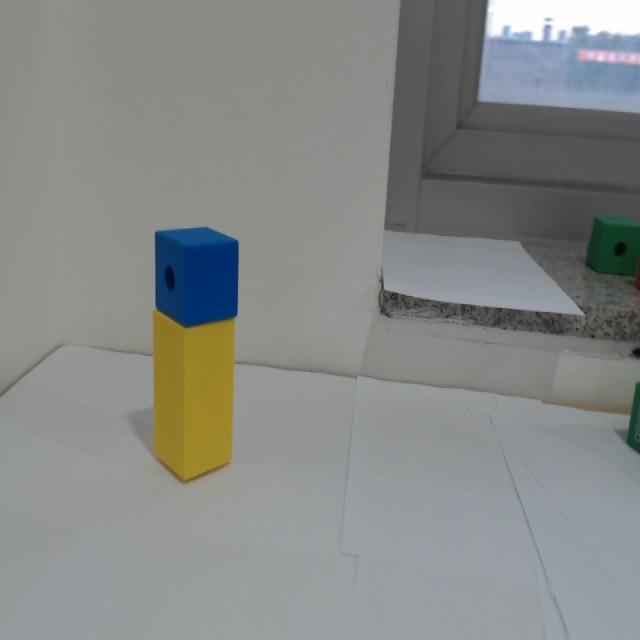cube: (153, 225, 241, 331)
